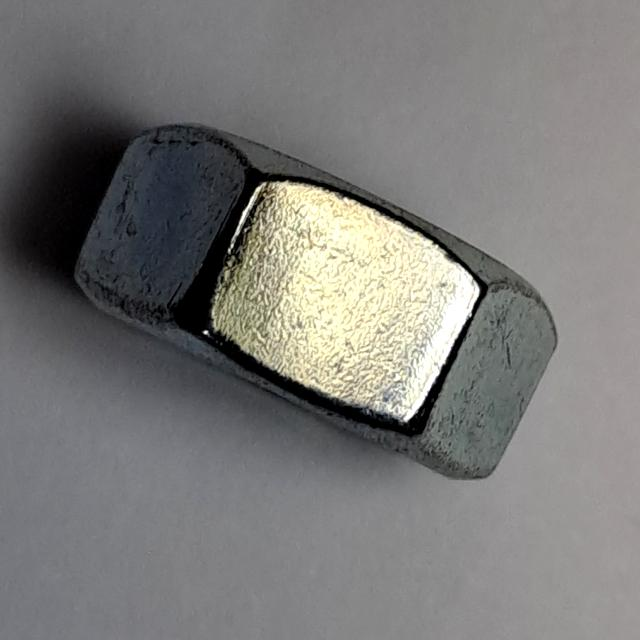Side_Excellent: (66, 117, 575, 499)
